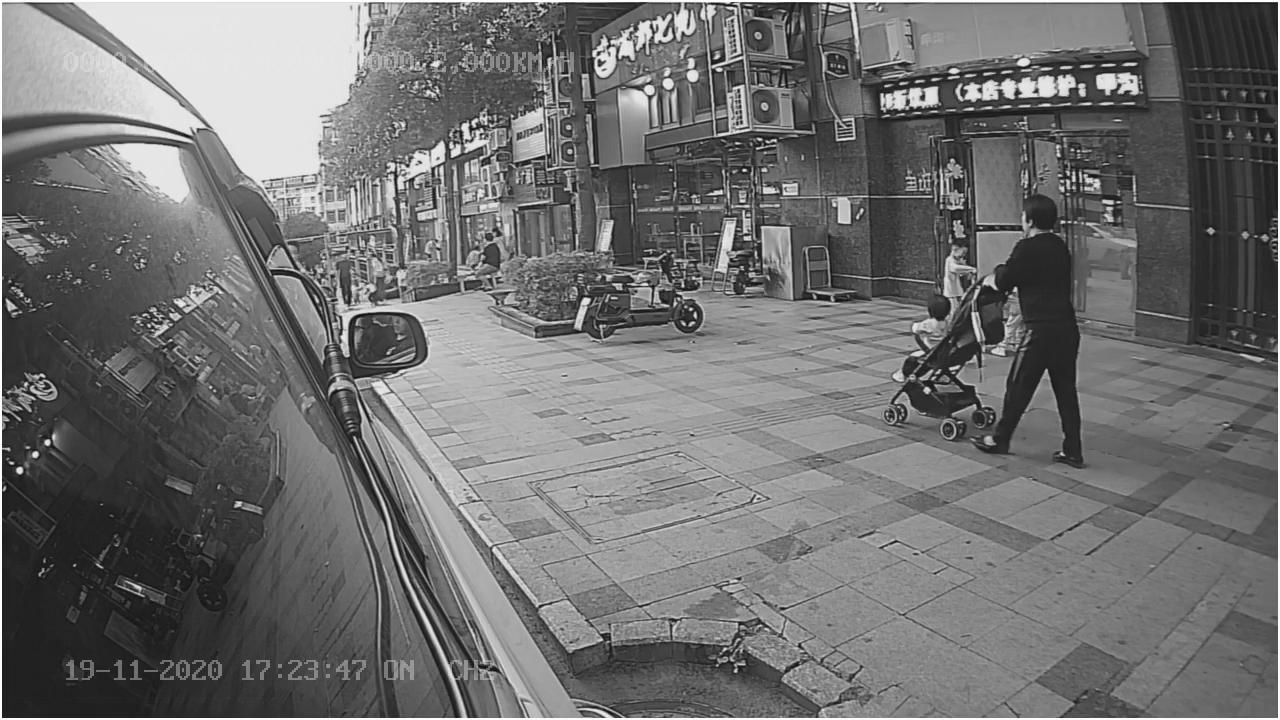person: (973, 189, 1091, 476)
